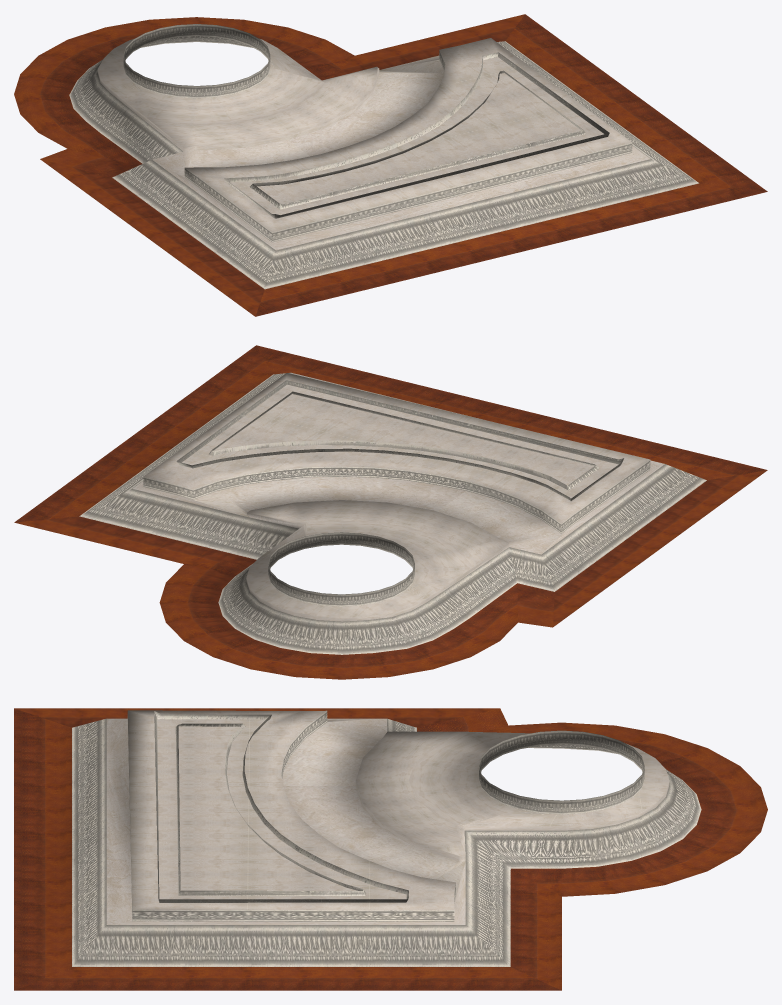
File: CeilingTest1.fbx
3 renders of one model, top to bottom at view 1: azimuth 30°, elevation 25°; view 2: azimuth 150°, elevation 25°; view 3: azimuth 270°, elevation 25°, orthographic. The views are drawn at different scales.
Parts seen in each view (by area): view 1: Circle.004; view 2: Circle.004; view 3: Circle.004.
Boxes of the visible parts, left/top/right/bottom form: Circle.004: left=14, top=14, right=767, bottom=316; Circle.004: left=14, top=345, right=767, bottom=679; Circle.004: left=14, top=708, right=767, bottom=990.
Size of the model in its own units: 1784 by 130 by 2013.
